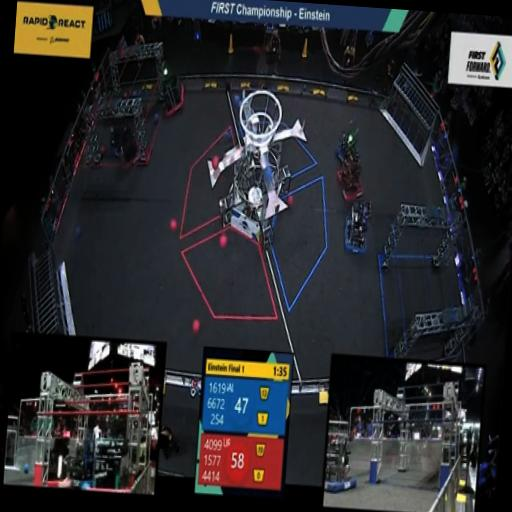robot: (154, 58, 190, 124), (341, 197, 374, 265), (335, 146, 370, 206), (105, 98, 136, 156), (334, 112, 364, 168), (120, 119, 145, 171)
